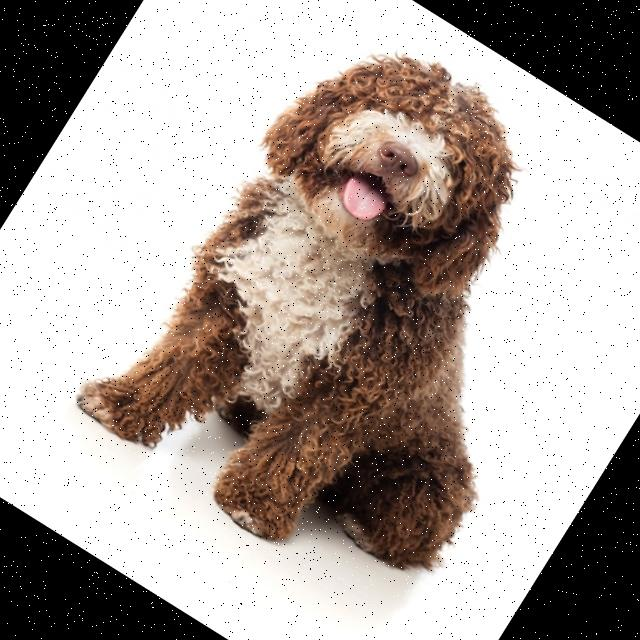Dog: (63, 0, 640, 625)
